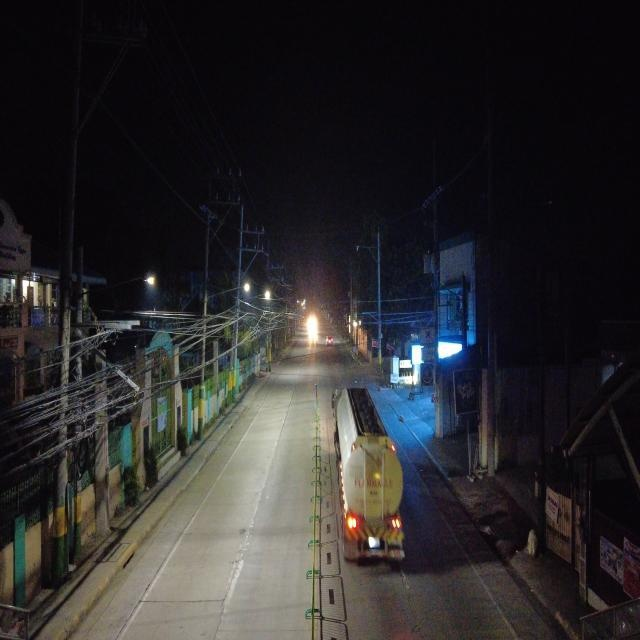Truck: (326, 386, 416, 574)
